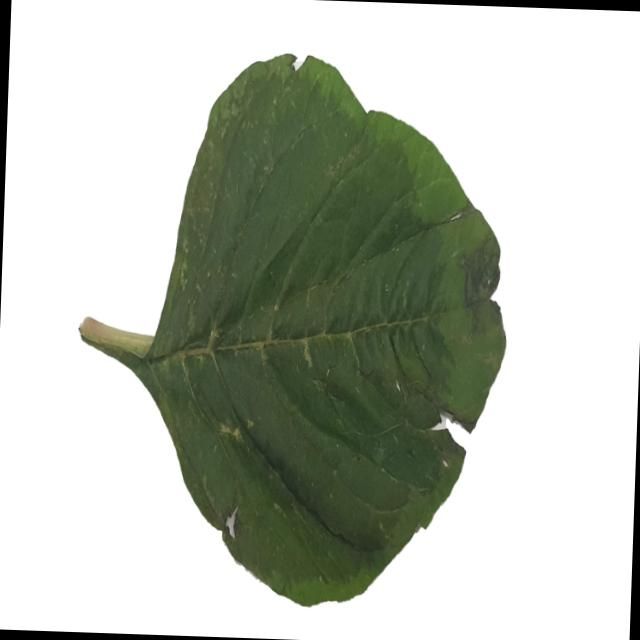Medicinal-Arive Dantu: (68, 44, 516, 609)
